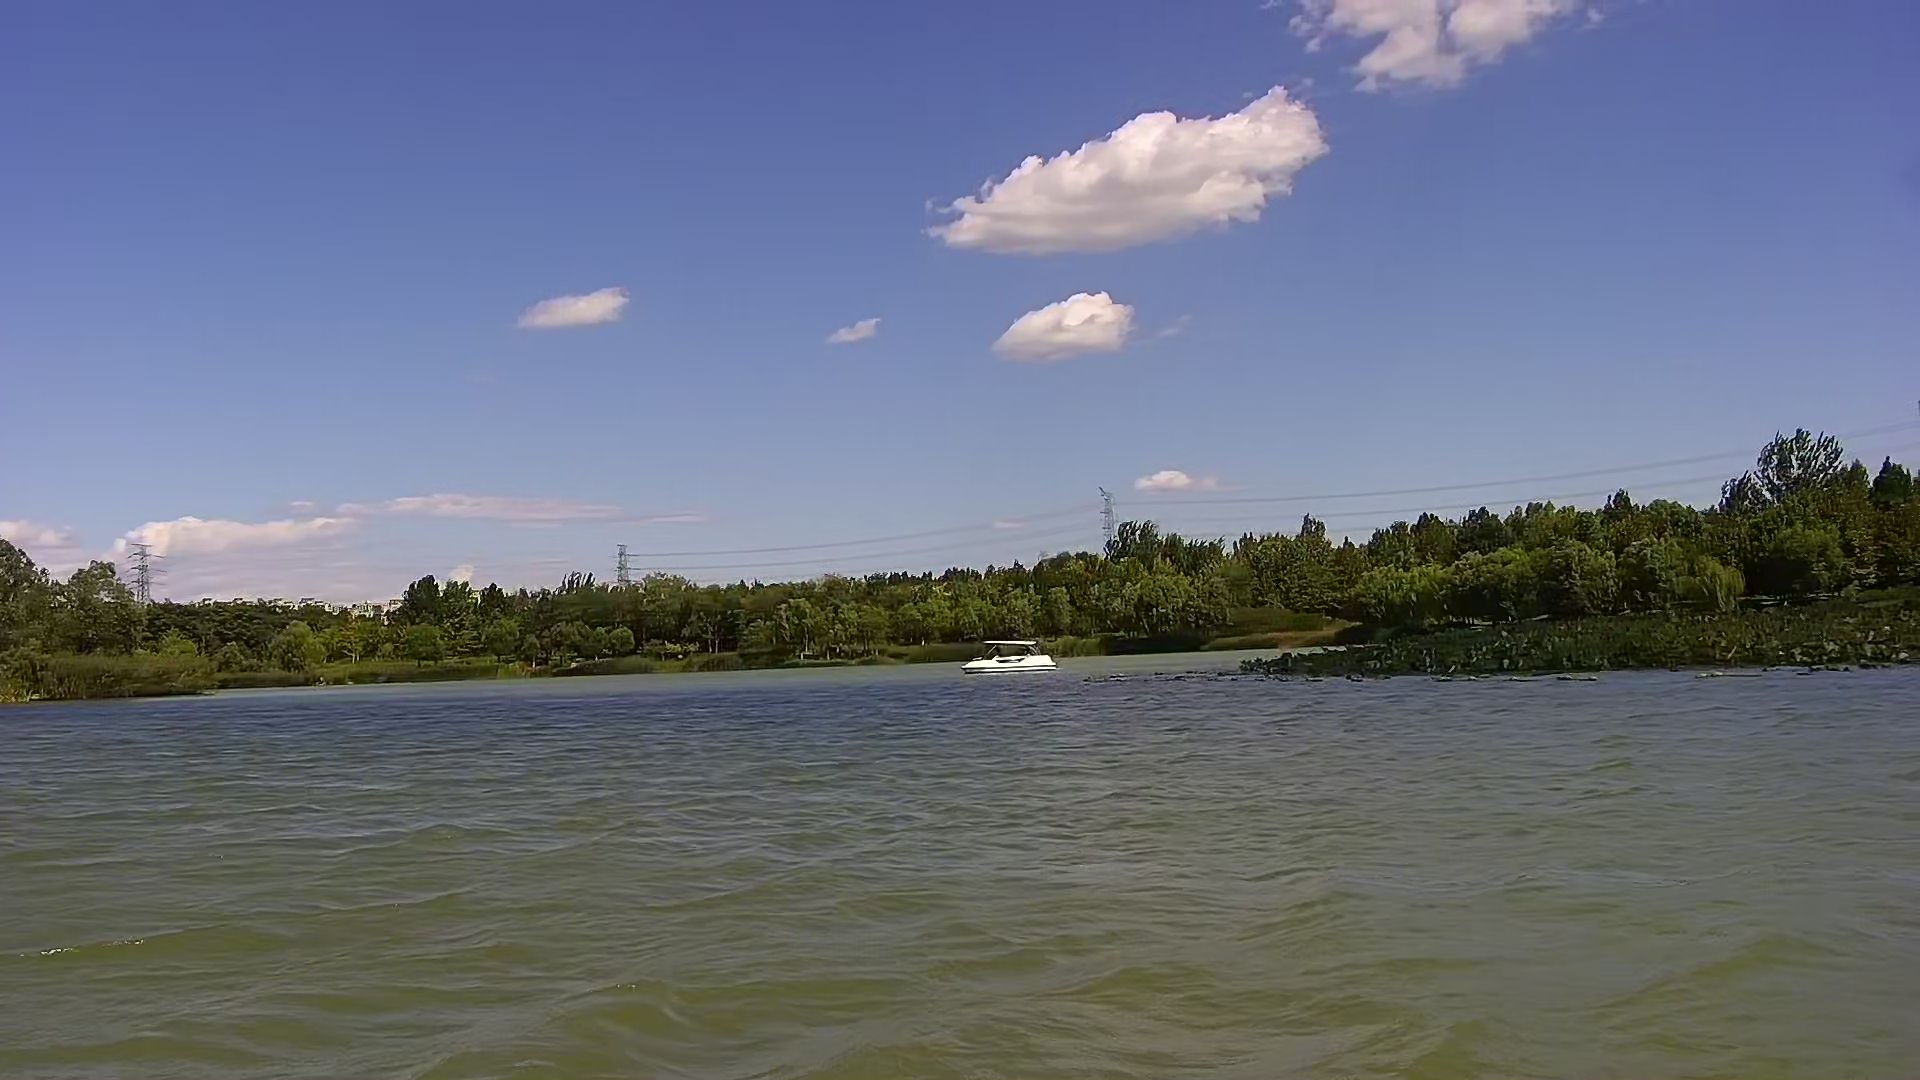boat: (959, 636, 1063, 673)
